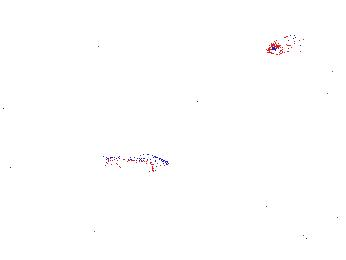X-ray fish: (80, 29, 101, 68)
glassfish: (91, 151, 171, 176), (260, 139, 310, 167)
red belly glassfish: (267, 34, 308, 57), (321, 81, 346, 101)
